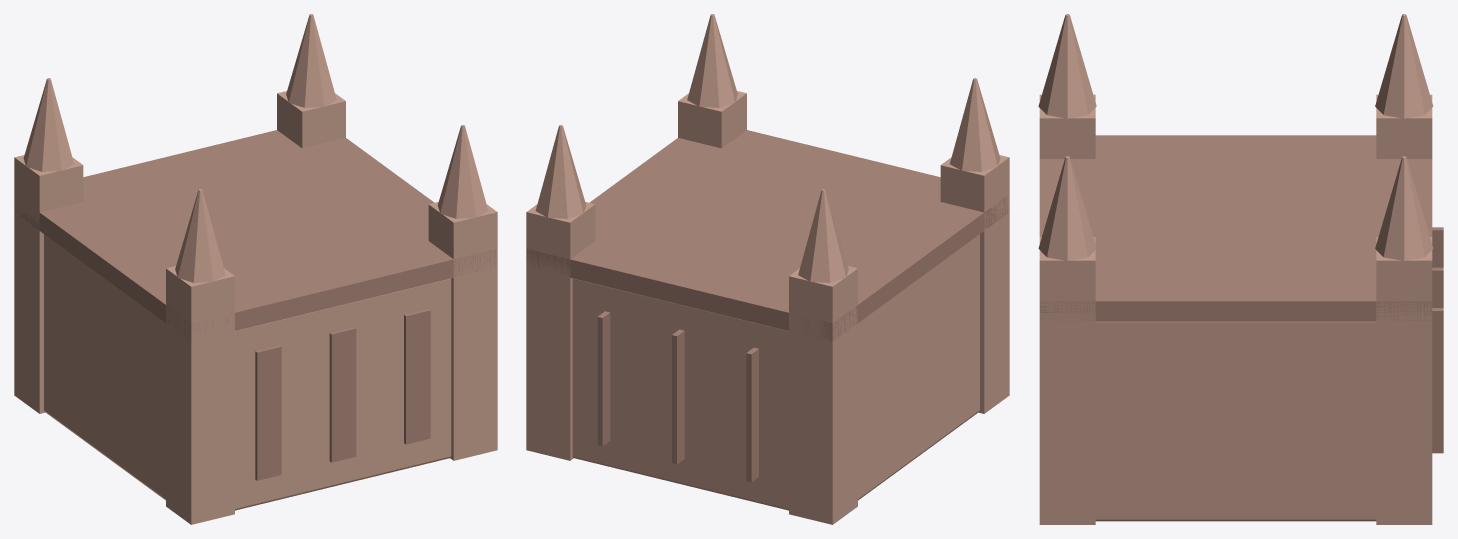
The model's file is cathedral_top.glb.
The picture shows the model from 3 angles, left to right: view 1: azimuth 30°, elevation 25°; view 2: azimuth 150°, elevation 25°; view 3: azimuth 270°, elevation 25°; orthographic projection. The views are drawn at different scales.
Visible parts, largest first — view 1: cathedral_top; view 2: cathedral_top; view 3: cathedral_top.
Part boxes in pixels (x1=…): cathedral_top: x1=14, y1=14, x2=497, y2=524; cathedral_top: x1=526, y1=14, x2=1009, y2=524; cathedral_top: x1=1038, y1=14, x2=1443, y2=524.
Size of the model in its own units: 35.2 by 35 by 36.1.
